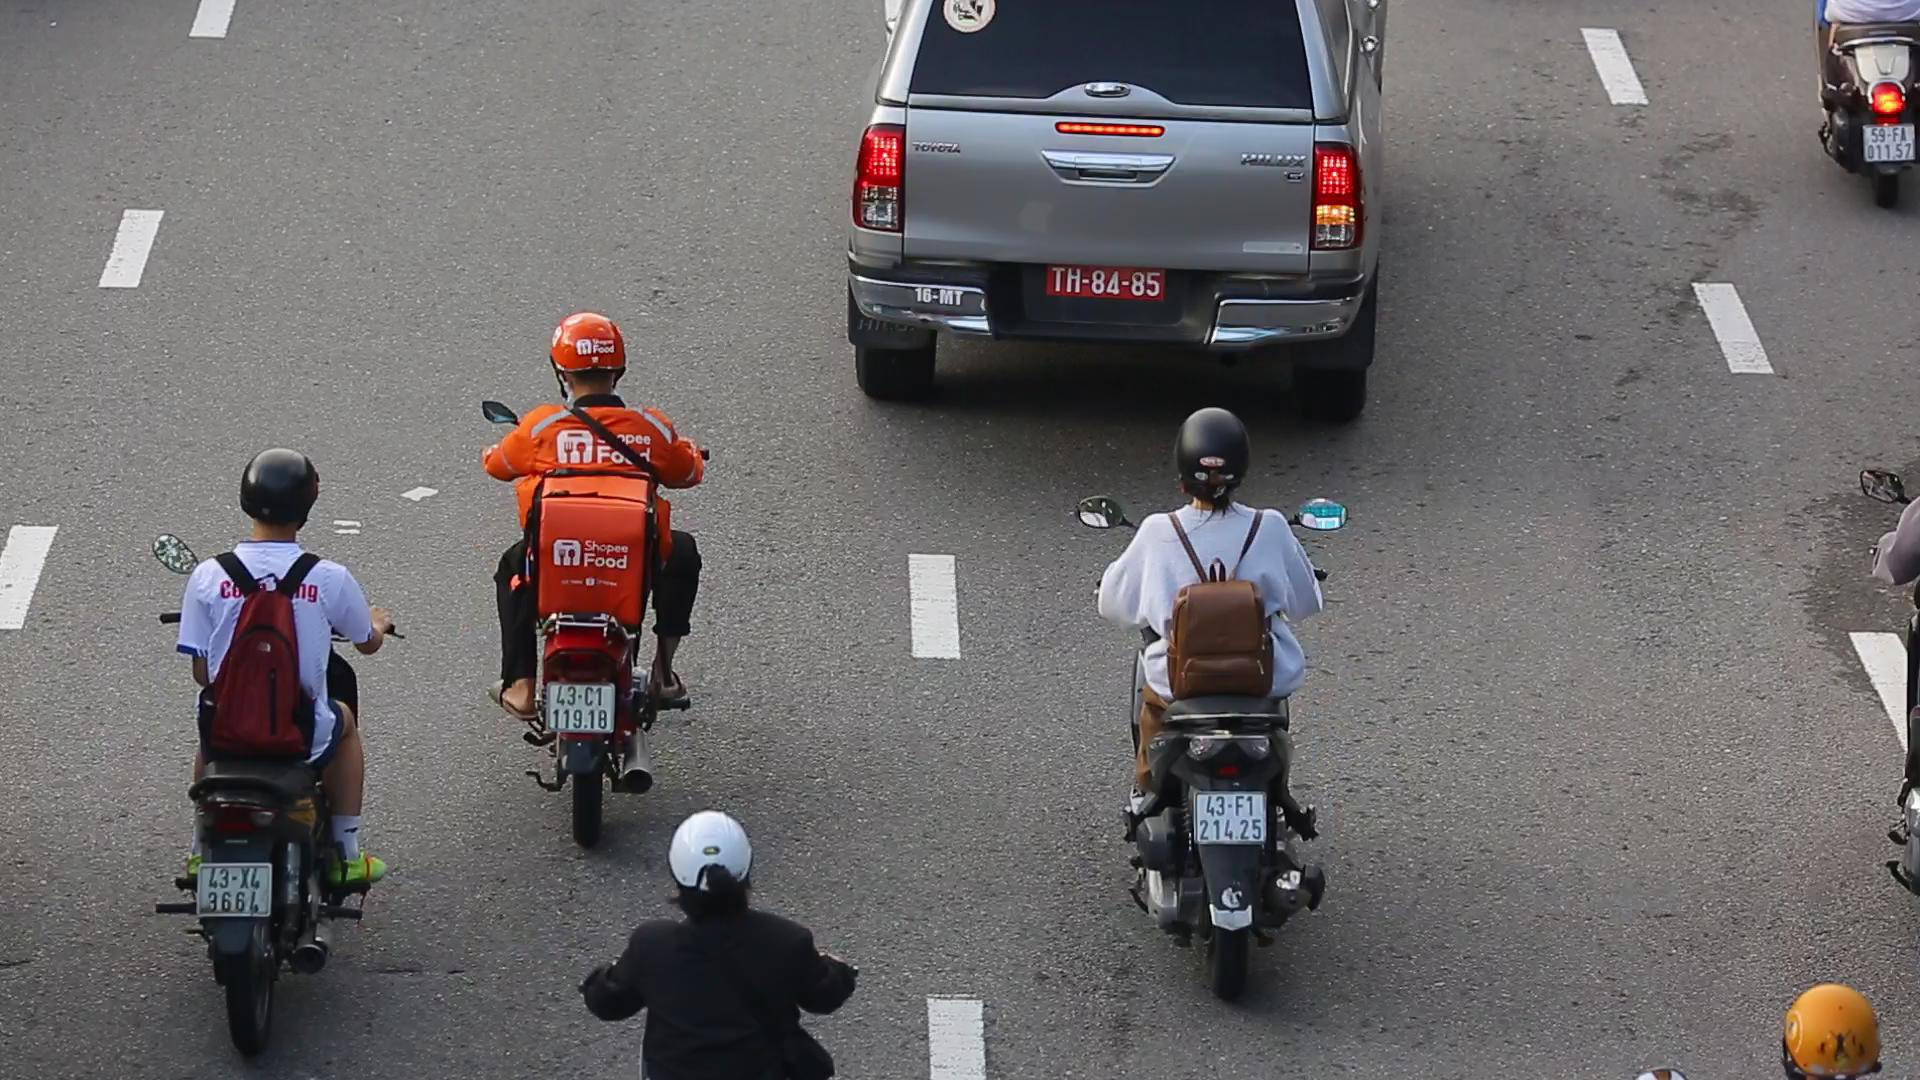motobike: (121, 439, 398, 1063), (1071, 402, 1357, 1005), (472, 285, 694, 847)
